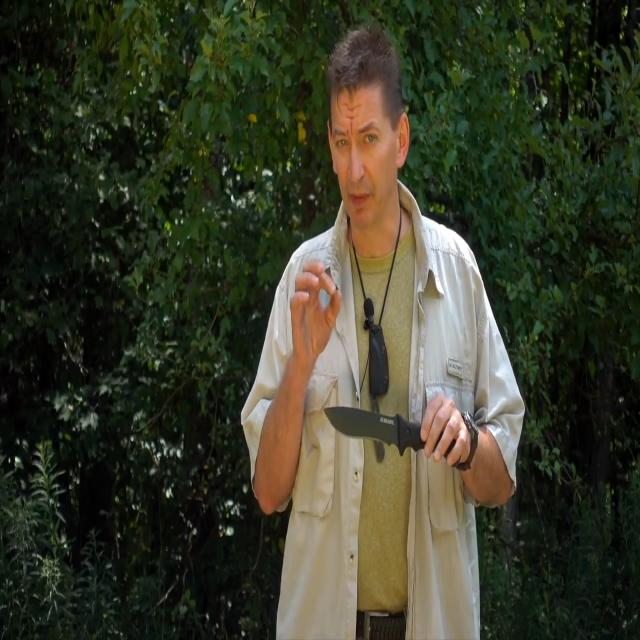knife: (320, 400, 426, 462)
